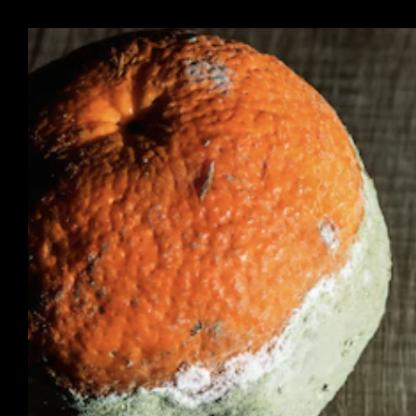rotten: (1, 33, 392, 416)
